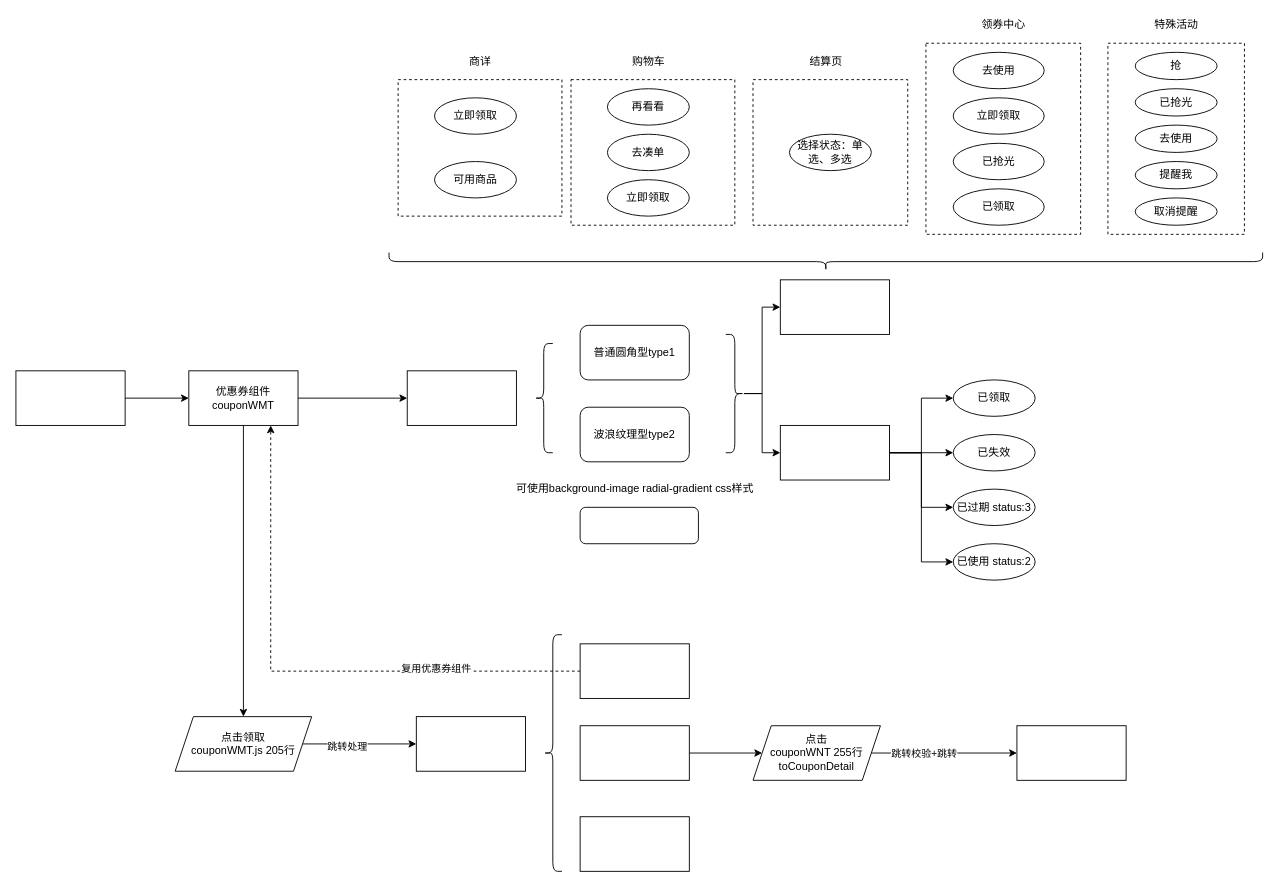
The diagram is 1279 pixels wide and 887 high, and some of its shapes have lost their labels. Each missing label, with the centre of its shape:
"coupon-demo.html" goes at [638,525].
"优惠券状态" goes at [834,452].
"优惠券详情页 couponDetail" goes at [470,743].
"展示优惠券" goes at [634,670].
"按钮状态" goes at [834,306].
"描述文本" goes at [634,843].
"查看适用商品按钮" goes at [634,752].
"样式新增、修改" goes at [461,397].
"适用商品页" goes at [1071,752].
"领劵中心" goes at [70,397].
